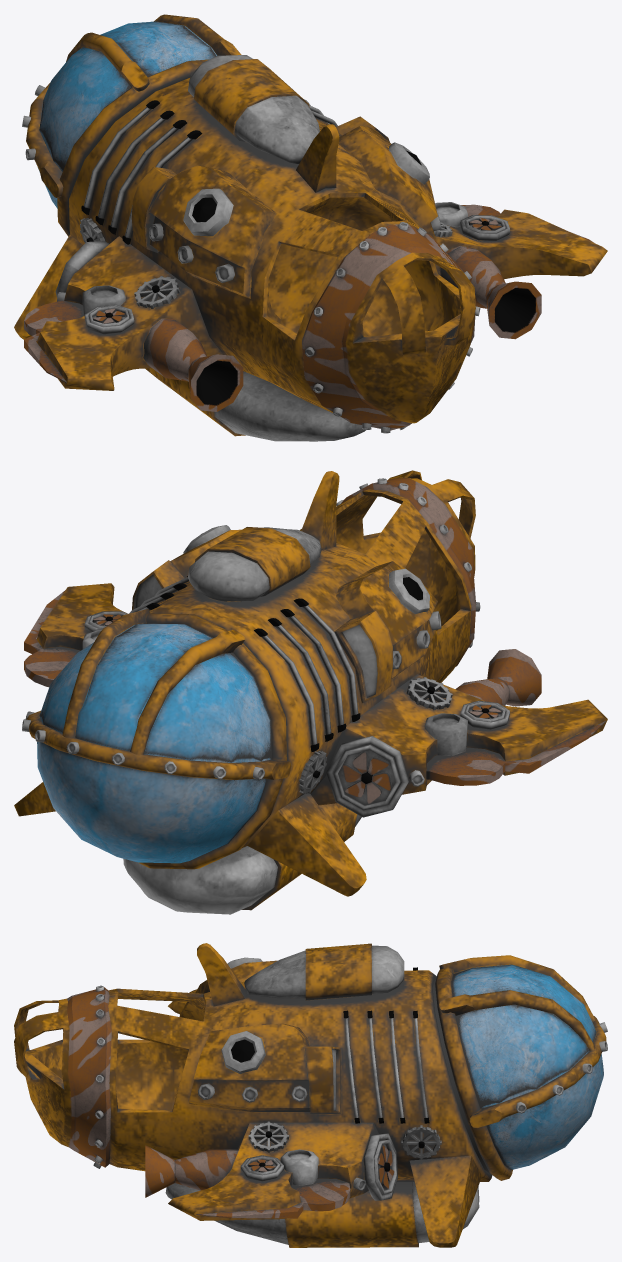
File: Pigeon.fbx
3 views of the same model, one above another, from view 1: azimuth 30°, elevation 25°; view 2: azimuth 150°, elevation 25°; view 3: azimuth 270°, elevation 25° (orthographic). The views are drawn at different scales.
Visible parts, largest first — view 1: Pigeon; view 2: Pigeon; view 3: Pigeon.
Boxes of the visible parts, x1,y1,x2,y2 form: Pigeon: (14,14,607,441); Pigeon: (14,470,607,914); Pigeon: (14,943,607,1247).
Bounding box in the file's own units: 206 × 125 × 230.
